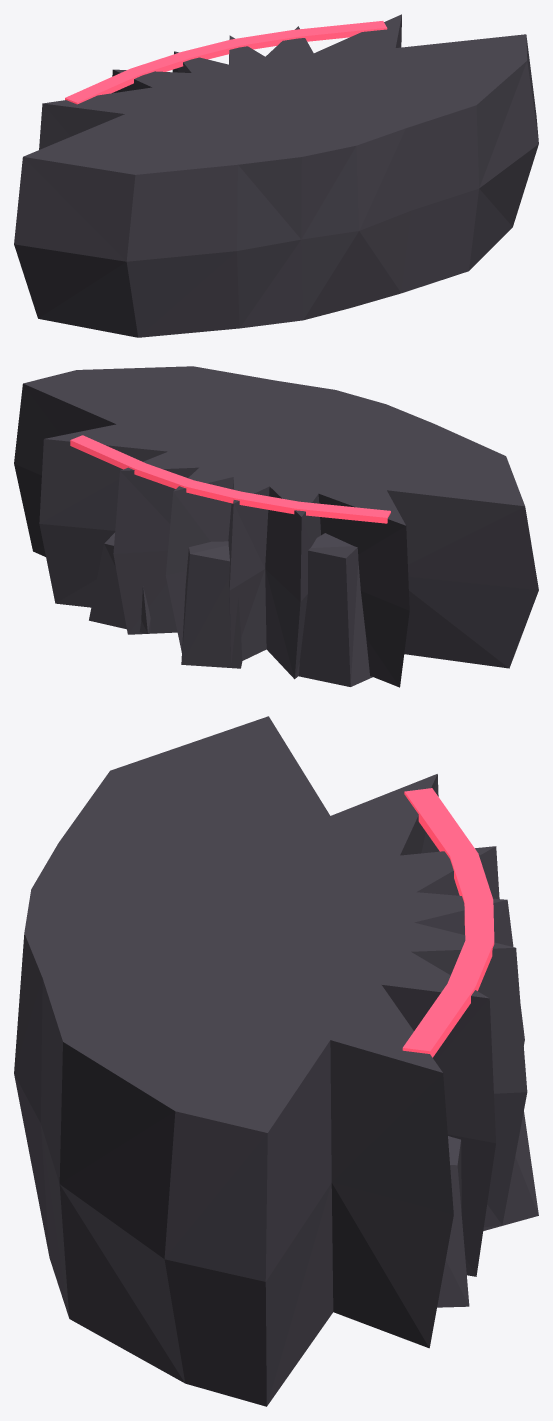
File: DA_FissureLip.fbx
3 views of the same model, one above another, from view 1: azimuth 30°, elevation 25°; view 2: azimuth 150°, elevation 25°; view 3: azimuth 270°, elevation 25° (orthographic). The views are drawn at different scales.
Parts seen in each view (by area): view 1: DA_FissureLip_Rock, DA_FissureLip_Neon_Rift; view 2: DA_FissureLip_Rock, DA_FissureLip_Neon_Rift; view 3: DA_FissureLip_Rock, DA_FissureLip_Neon_Rift.
Part boxes in pixels (x1,y1,x2,y2): DA_FissureLip_Rock: (14,14,538,337); DA_FissureLip_Neon_Rift: (65,21,387,104); DA_FissureLip_Rock: (14,366,538,687); DA_FissureLip_Neon_Rift: (70,435,390,523); DA_FissureLip_Rock: (14,716,538,1406); DA_FissureLip_Neon_Rift: (402,788,494,1057).
Bounding box in the file's own units: 19.83 × 6.17 × 10.13.
